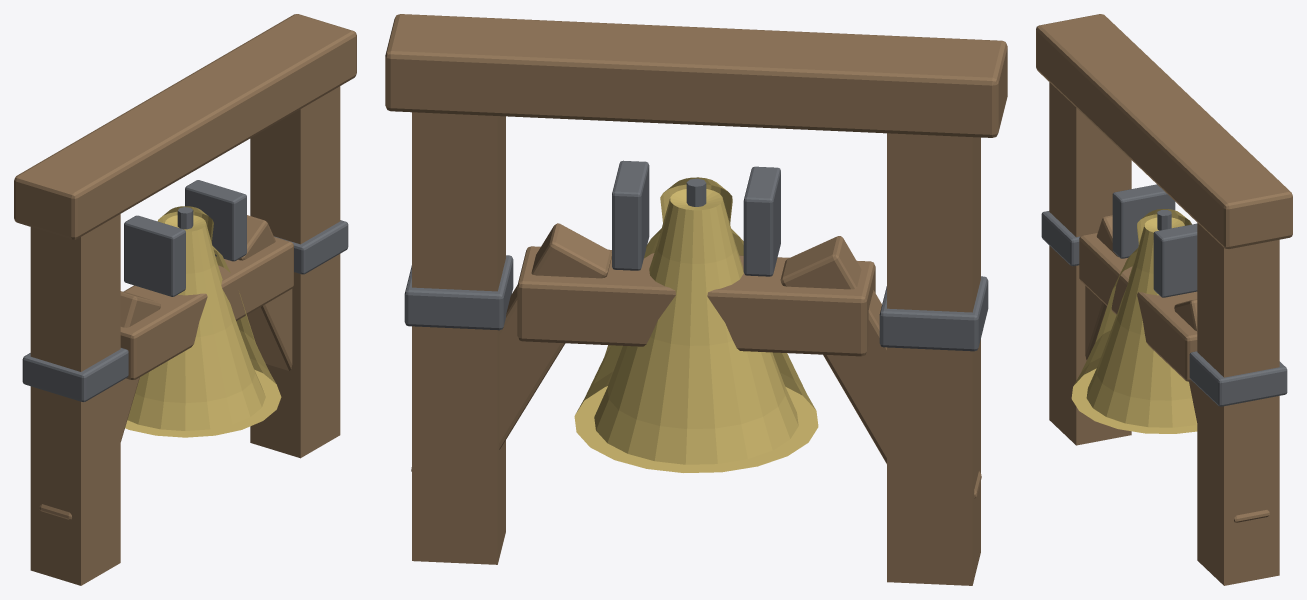
Rendered from monastery_hung_bell.glb.
3 renders of one model, left to right at view 1: azimuth 30°, elevation 25°; view 2: azimuth 150°, elevation 25°; view 3: azimuth 270°, elevation 25°, orthographic. The views are drawn at different scales.
Visible parts, largest first — view 1: world; view 2: world; view 3: world.
Boxes of the visible parts, <box> form: world: <box>14,14,356,585</box>; world: <box>385,14,1007,585</box>; world: <box>1036,14,1292,585</box>.
Bounding box in the file's own units: 2 × 1.88 × 1.13.
